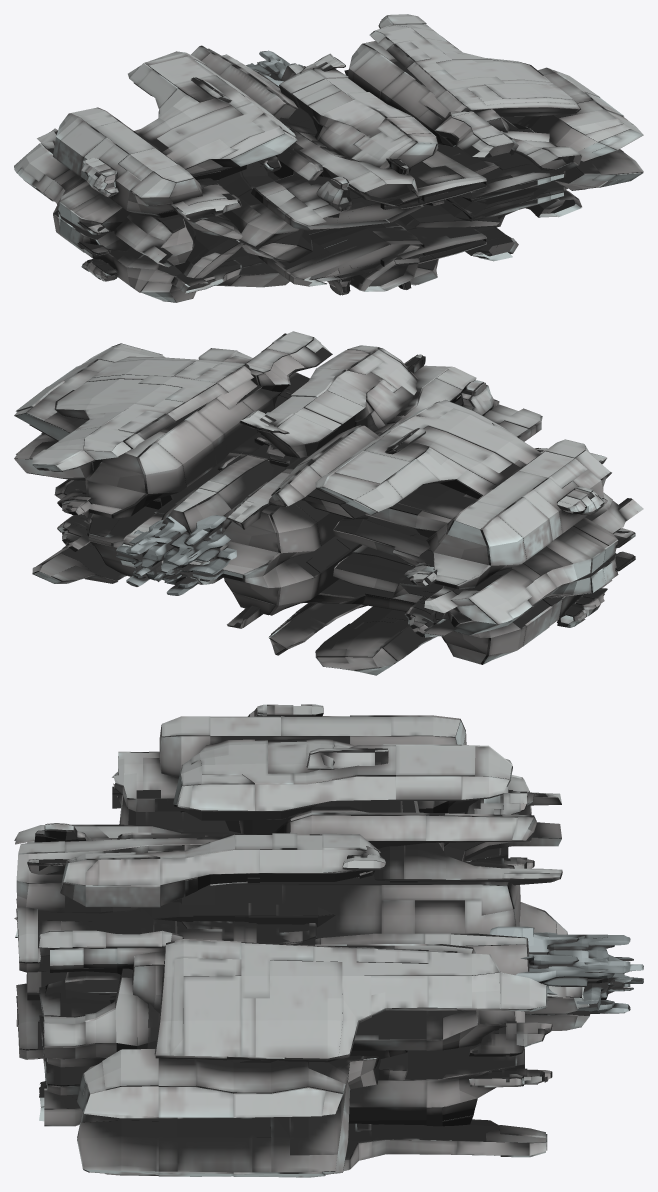
Rendered from MOTHERSHIP_008.fbx.
3 views of the same model, one above another, from view 1: azimuth 30°, elevation 25°; view 2: azimuth 150°, elevation 25°; view 3: azimuth 270°, elevation 25° (orthographic). The views are drawn at different scales.
Parts seen in each view (by area): view 1: MOTHERSHIP_008; view 2: MOTHERSHIP_008; view 3: MOTHERSHIP_008.
Part boxes in pixels (x1,y1,x2,y2): MOTHERSHIP_008: (14, 14, 643, 302); MOTHERSHIP_008: (14, 331, 643, 675); MOTHERSHIP_008: (14, 704, 643, 1177).
Size of the model in its own units: 110 by 36.2 by 77.21.
